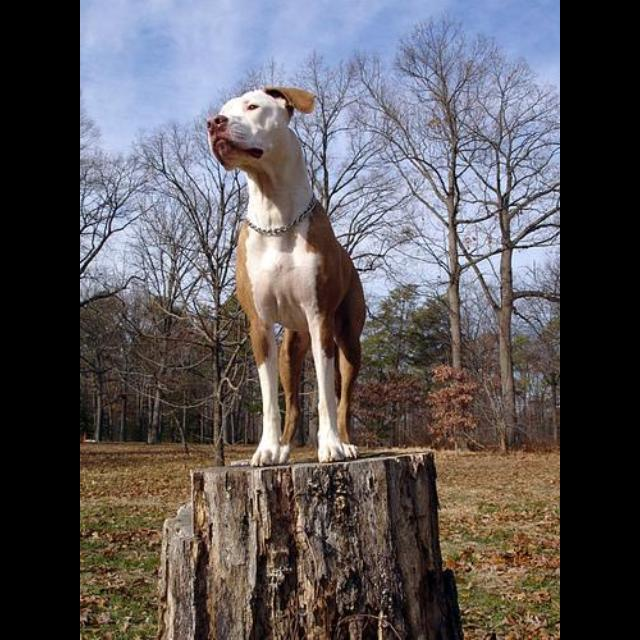amstaff: (205, 86, 367, 467)
